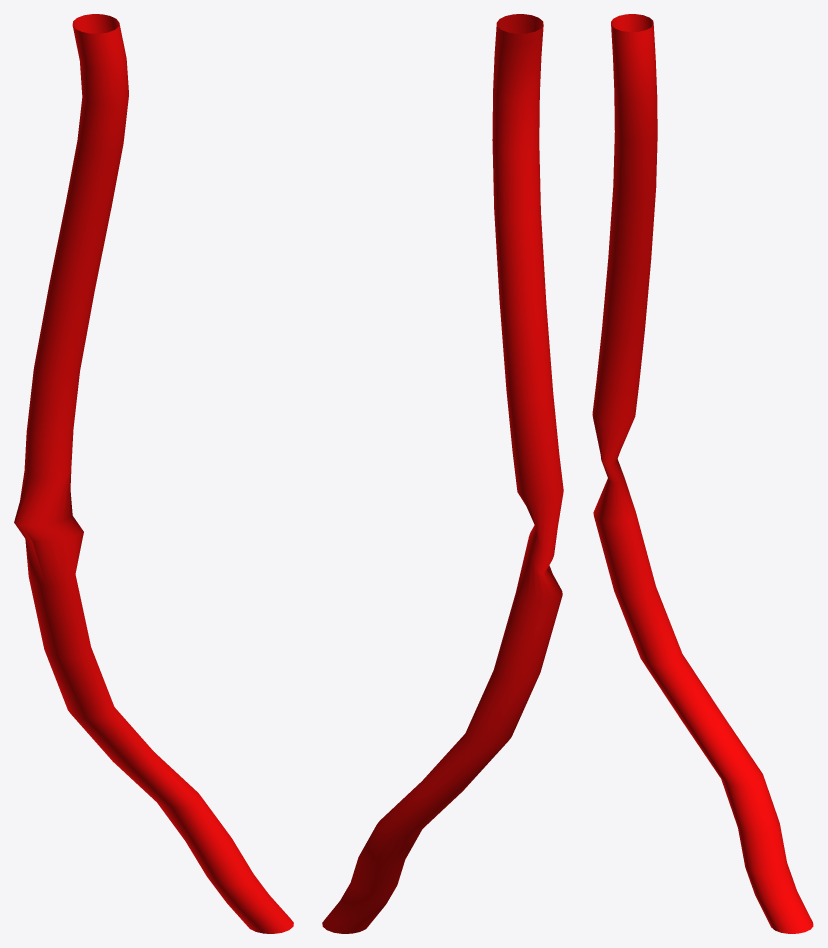
The model's file is wire_damaged_2.gltf.
3 views of the same model, side by side, from view 1: azimuth 30°, elevation 25°; view 2: azimuth 150°, elevation 25°; view 3: azimuth 330°, elevation 25° (orthographic). The views are drawn at different scales.
Visible parts, largest first — view 1: wire_broken_2; view 2: wire_broken_2; view 3: wire_broken_2.
Part boxes in pixels (x1,y1,x2,y2): wire_broken_2: [14, 14, 293, 933]; wire_broken_2: [322, 14, 563, 933]; wire_broken_2: [592, 14, 813, 933].
Bounding box in the file's own units: 0.4369 × 1.56 × 0.1408.
